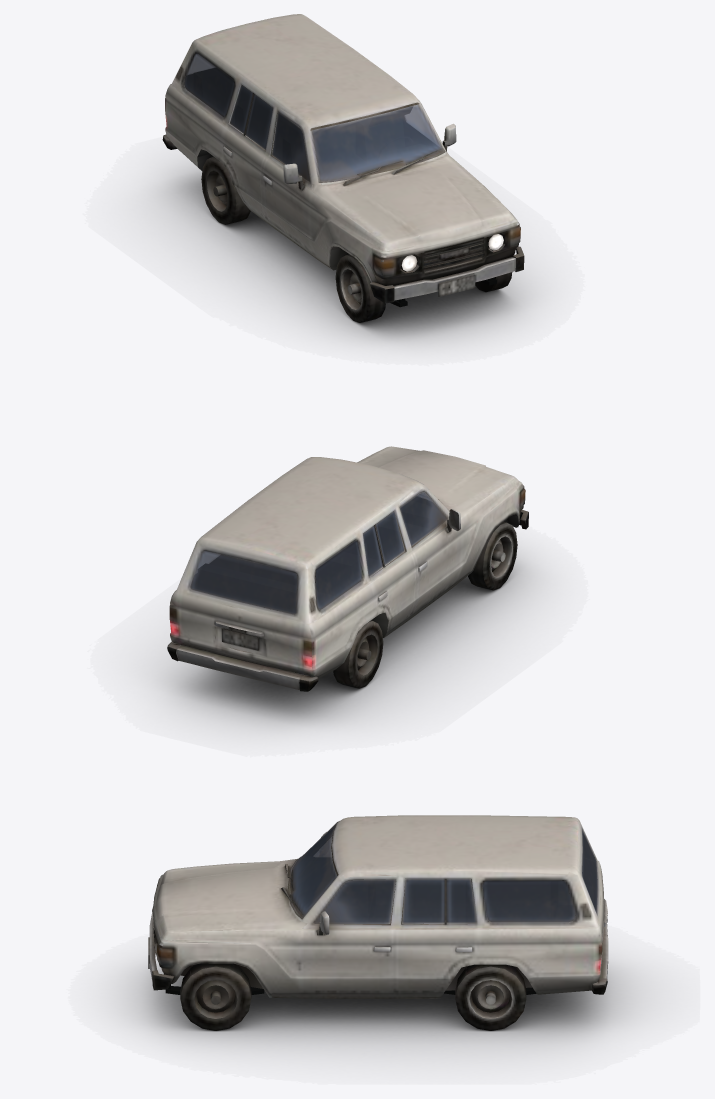
File: land_cruiser_lite.glb
The picture shows the model from 3 angles, top to bottom: view 1: azimuth 30°, elevation 25°; view 2: azimuth 150°, elevation 25°; view 3: azimuth 270°, elevation 25°; orthographic projection. The views are drawn at different scales.
Visible parts, largest first — view 1: Cylinder002, Plane001, Object001_Material #49_0; view 2: Cylinder002, Plane001, Object001_Material #49_0; view 3: Cylinder002, Plane001, Object001_Material #49_0.
Boxes of the visible parts, x1,y1,x2,y2 form: Cylinder002: (162, 14, 524, 322); Plane001: (160, 164, 526, 342); Object001_Material #49_0: (184, 53, 443, 181); Cylinder002: (167, 446, 528, 691); Plane001: (165, 557, 531, 726); Object001_Material #49_0: (190, 492, 447, 614); Cylinder002: (148, 815, 608, 1030); Plane001: (129, 961, 631, 1045); Object001_Material #49_0: (289, 824, 597, 923).
Bounding box in the file's own units: 184 × 76.87 × 304.
Materials: 3 (3 with a texture image).
